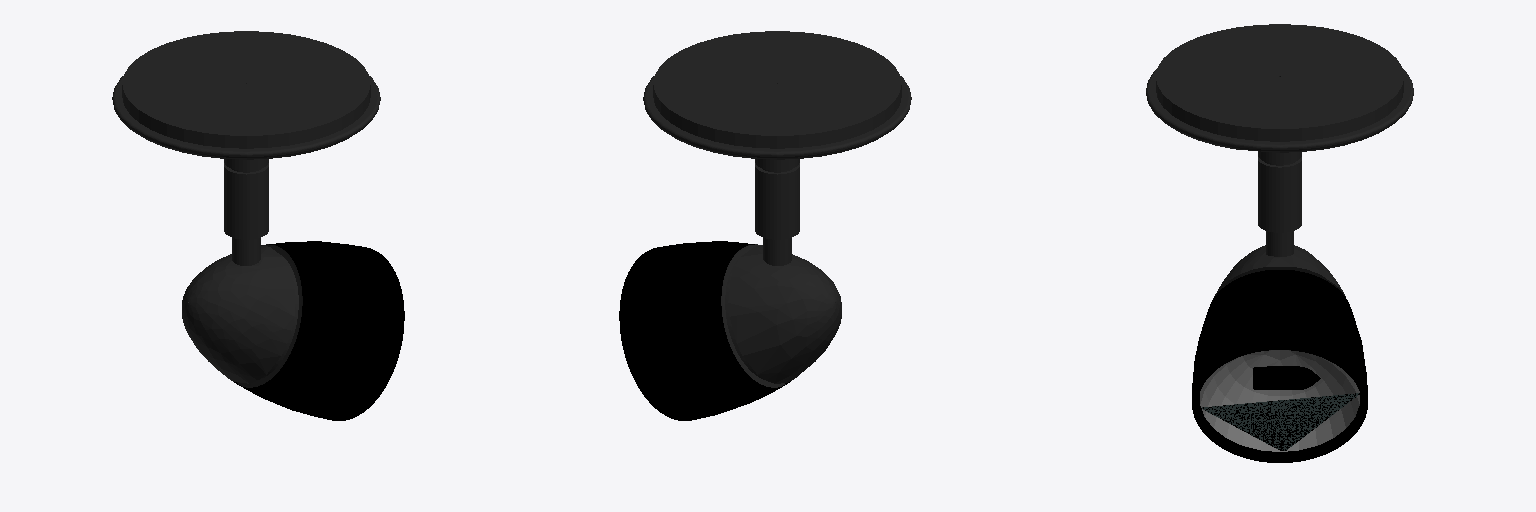
The model's file is spotlight.obj.
The picture shows the model from 3 angles: view 1: azimuth 30°, elevation 25°; view 2: azimuth 150°, elevation 25°; view 3: azimuth 270°, elevation 25°; orthographic projection.
Visible parts, largest first — view 1: Line01; view 2: Line01; view 3: Line01.
Boxes of the visible parts, x1,y1,x2,y2 form: Line01: [112, 31, 404, 420]; Line01: [619, 31, 911, 420]; Line01: [1146, 24, 1413, 462].
Size of the model in its own units: 2.98 by 3.96 by 2.76.